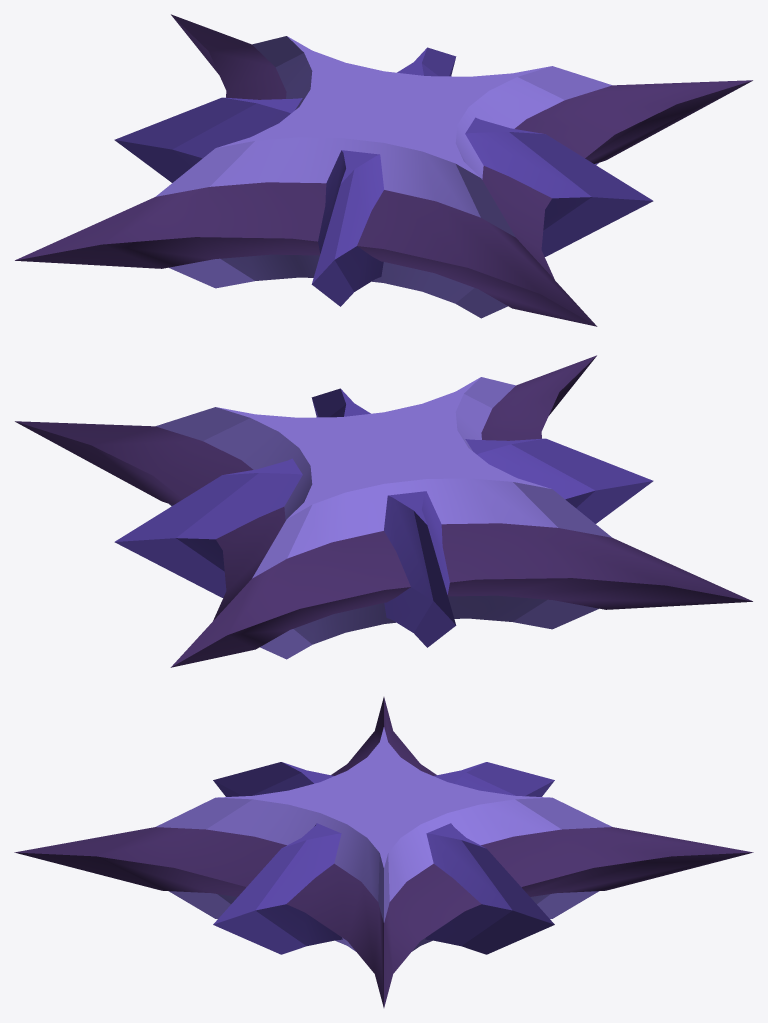
File: coin20.fbx
3 views of the same model, one above another, from view 1: azimuth 30°, elevation 25°; view 2: azimuth 150°, elevation 25°; view 3: azimuth 270°, elevation 25° (orthographic). The views are drawn at different scales.
Parts seen in each view (by area): view 1: Gem20; view 2: Gem20; view 3: Gem20.
Part boxes in pixels (bbox=[...]): Gem20: bbox=[15, 14, 752, 326]; Gem20: bbox=[15, 355, 752, 667]; Gem20: bbox=[14, 697, 753, 1007].
Bounding box in the file's own units: 224 × 40.57 × 224.
